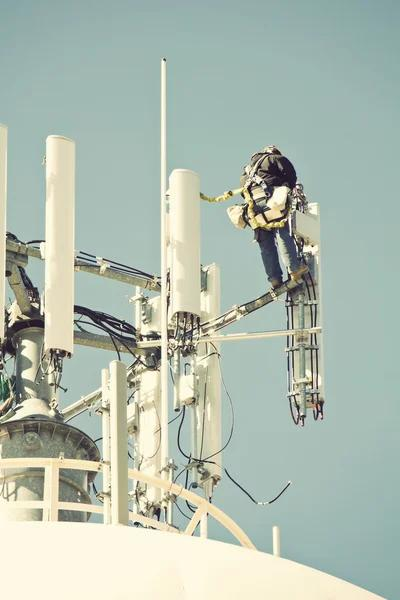antenna: (41, 131, 84, 356), (194, 262, 230, 495), (89, 357, 137, 525), (161, 161, 209, 323)
